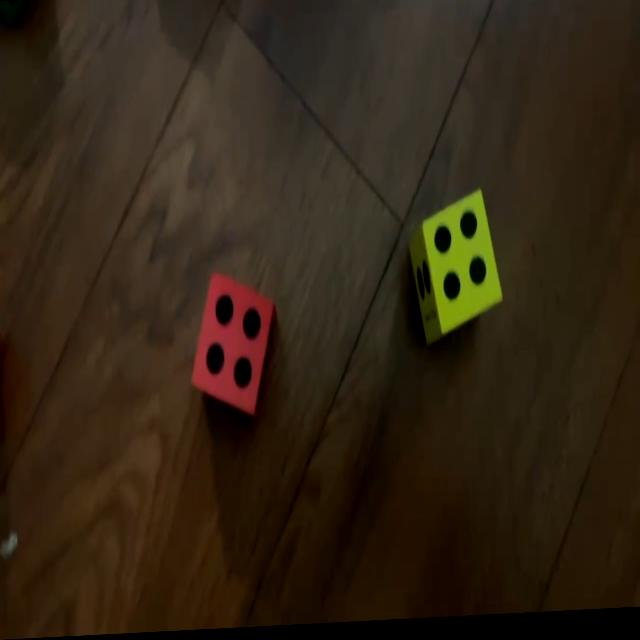cube: (190, 272, 276, 422)
